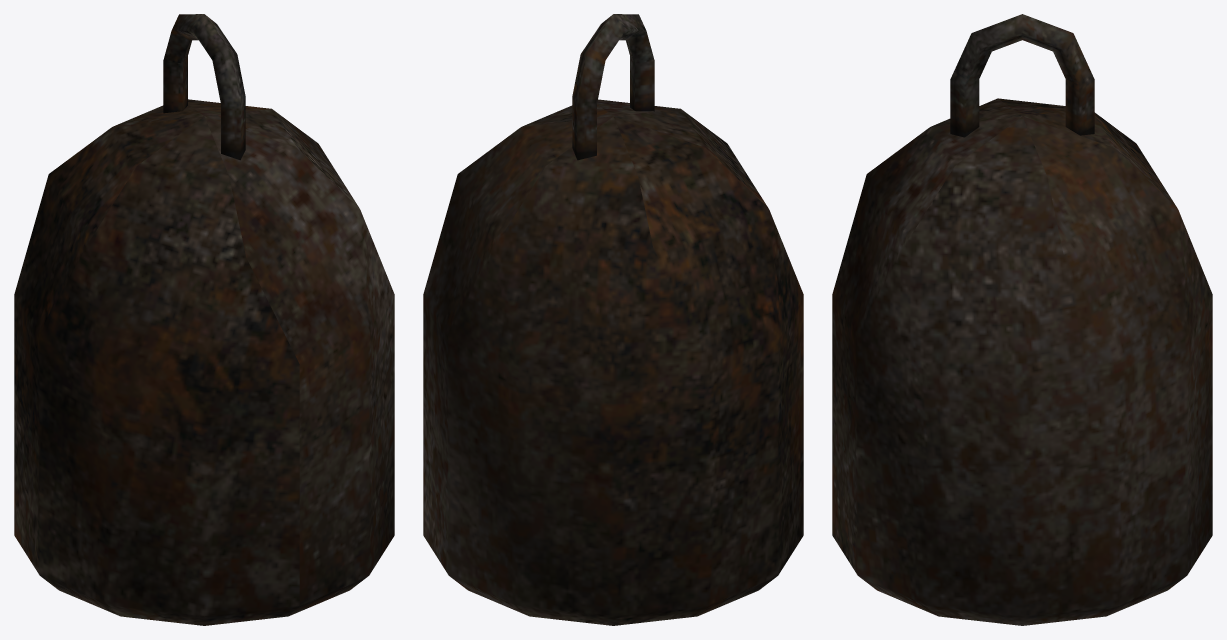
File: control_room_chain_weight.dae
3 views of the same model, side by side, from view 1: azimuth 30°, elevation 25°; view 2: azimuth 150°, elevation 25°; view 3: azimuth 270°, elevation 25° (orthographic).
Visible parts, largest first — view 1: control_room_chain_weight; view 2: control_room_chain_weight; view 3: control_room_chain_weight.
Part boxes in pixels (x1,y1,x2,y2): control_room_chain_weight: [14, 14, 394, 625]; control_room_chain_weight: [423, 14, 803, 625]; control_room_chain_weight: [832, 14, 1212, 625].
Bounding box in the file's own units: 0.5859 × 0.9196 × 0.5859.
